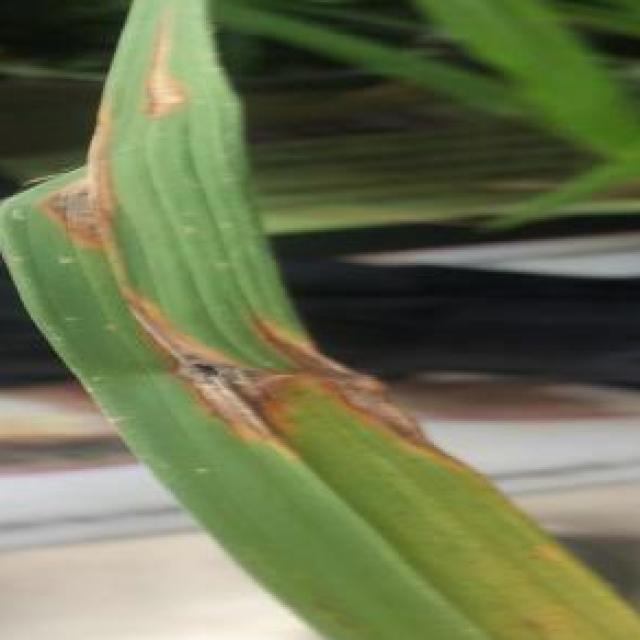Leaf_Blast: (250, 336, 467, 480), (125, 312, 298, 476), (6, 138, 144, 294), (105, 27, 193, 144)
